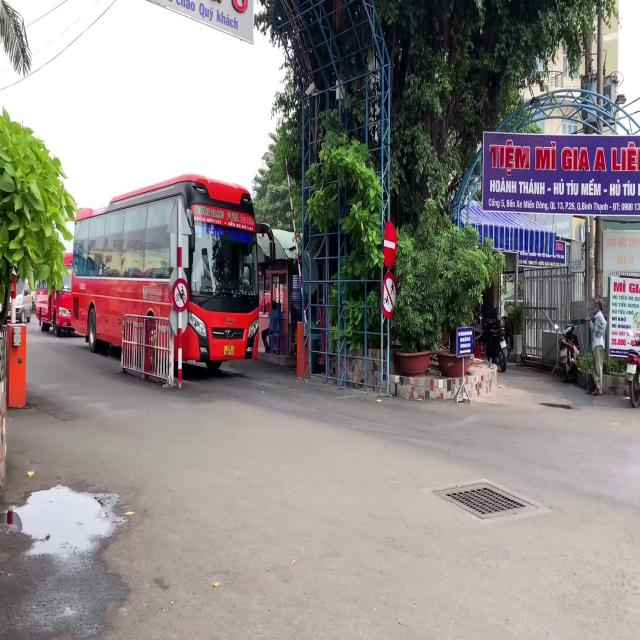bien_vang: (224, 345, 234, 356)
